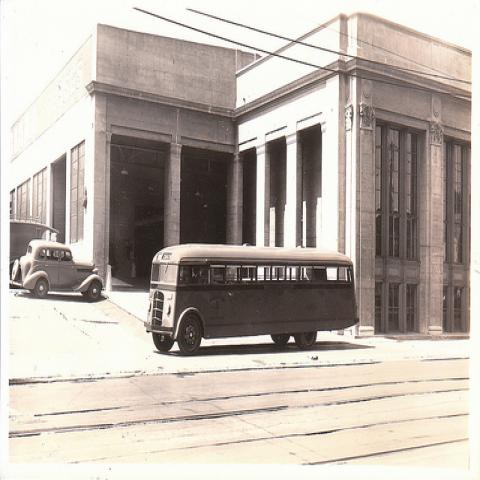bus: (144, 244, 360, 357)
car: (11, 239, 104, 301)
truck: (8, 215, 59, 274)
